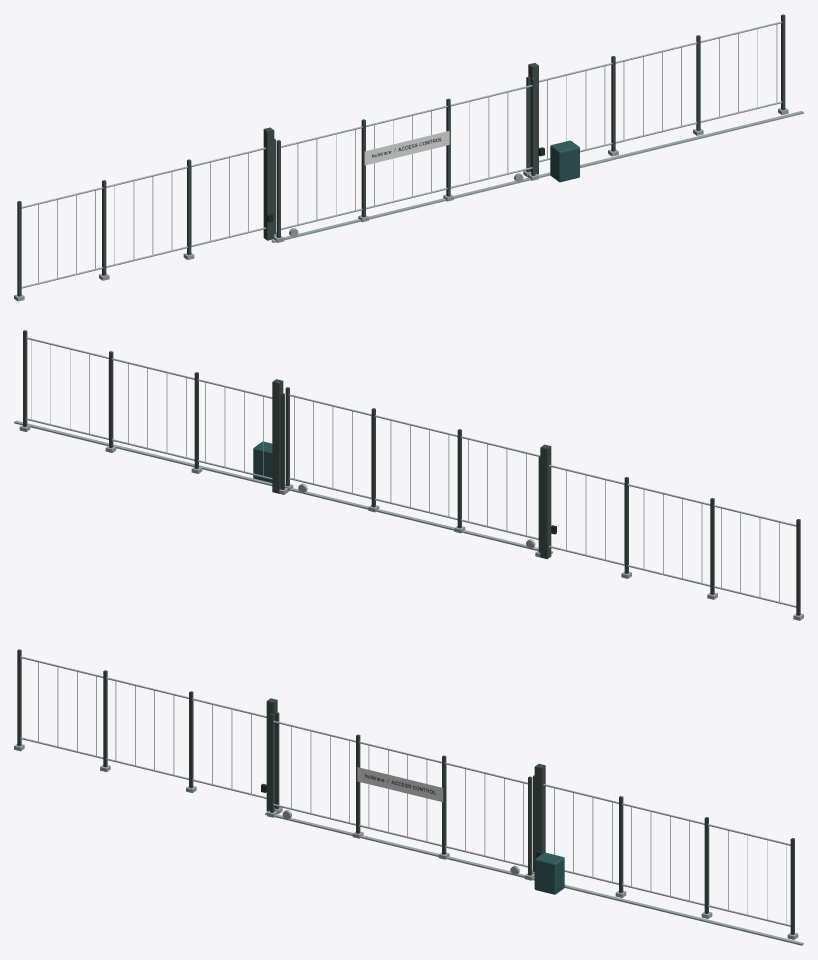
File: security-fence-gate.glb
The picture shows the model from 3 angles, top to bottom: view 1: azimuth 30°, elevation 25°; view 2: azimuth 150°, elevation 25°; view 3: azimuth 330°, elevation 25°; orthographic projection.
Parts seen in each view (by area): view 1: security-fence-gate_galvanized-steel, security-fence-gate_powder-coated-frame, sliding_gate_galvanized-steel, sliding_gate_powder-coated-frame, sliding_gate_gate-warning-ink, security-fence-gate_hubtrace-teal-cladding; view 2: security-fence-gate_galvanized-steel, security-fence-gate_powder-coated-frame, sliding_gate_galvanized-steel, sliding_gate_powder-coated-frame, security-fence-gate_hubtrace-teal-cladding; view 3: security-fence-gate_galvanized-steel, security-fence-gate_powder-coated-frame, sliding_gate_galvanized-steel, sliding_gate_powder-coated-frame, sliding_gate_gate-warning-ink, security-fence-gate_hubtrace-teal-cladding.
Boxes of the visible parts, left/top/right/bottom form: security-fence-gate_galvanized-steel: left=14, top=21, right=803, bottom=301; security-fence-gate_powder-coated-frame: left=17, top=14, right=785, bottom=296; sliding_gate_galvanized-steel: left=273, top=85, right=538, bottom=242; sliding_gate_powder-coated-frame: left=276, top=78, right=535, bottom=237; sliding_gate_gate-warning-ink: left=364, top=130, right=449, bottom=165; security-fence-gate_hubtrace-teal-cladding: left=550, top=140, right=579, bottom=182; security-fence-gate_galvanized-steel: left=14, top=337, right=803, bottom=620; security-fence-gate_powder-coated-frame: left=23, top=330, right=800, bottom=615; sliding_gate_galvanized-steel: left=285, top=394, right=540, bottom=547; sliding_gate_powder-coated-frame: left=285, top=387, right=461, bottom=528; security-fence-gate_hubtrace-teal-cladding: left=253, top=441, right=272, bottom=482; security-fence-gate_galvanized-steel: left=14, top=656, right=803, bottom=945; security-fence-gate_powder-coated-frame: left=17, top=649, right=794, bottom=934; sliding_gate_galvanized-steel: left=267, top=720, right=534, bottom=880; sliding_gate_powder-coated-frame: left=270, top=713, right=532, bottom=875; sliding_gate_gate-warning-ink: left=357, top=767, right=443, bottom=802; security-fence-gate_hubtrace-teal-cladding: left=534, top=852, right=564, bottom=894.
Size of the model in its own units: 18.43 by 2.45 by 0.7305.
Materials: 5 (1 with a texture image).
